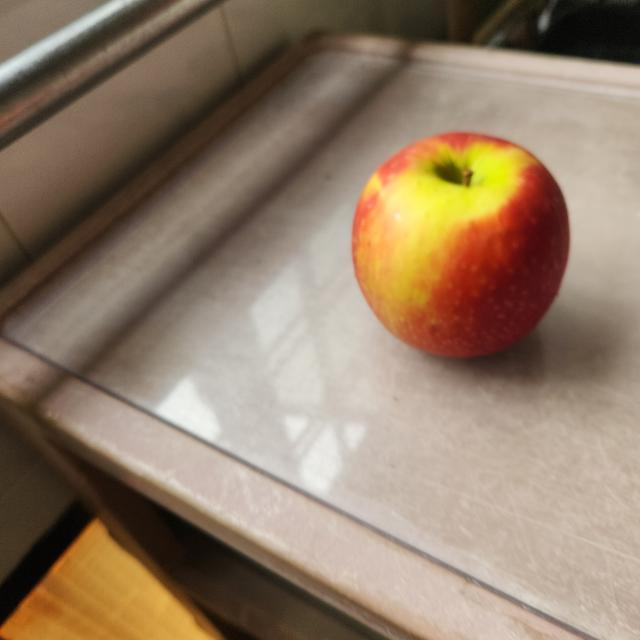apple: (351, 126, 574, 370)
